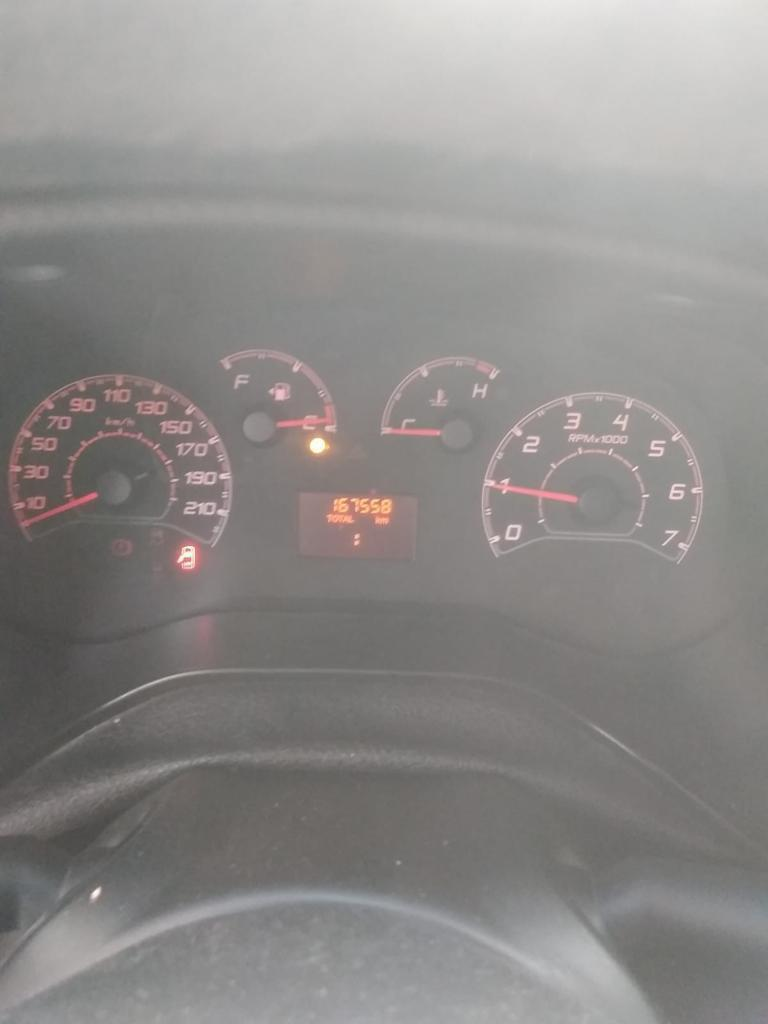1: (330, 497, 337, 512)
5: (359, 497, 369, 514), (370, 497, 380, 514)
6: (338, 497, 349, 512)
7: (349, 496, 359, 512)
8: (380, 498, 391, 514)
X: (352, 531, 361, 547), (325, 512, 332, 522), (380, 516, 388, 524), (373, 516, 380, 524), (342, 515, 348, 523), (337, 514, 342, 523), (348, 514, 353, 523), (332, 514, 337, 522)
odometer: (293, 487, 422, 563)
